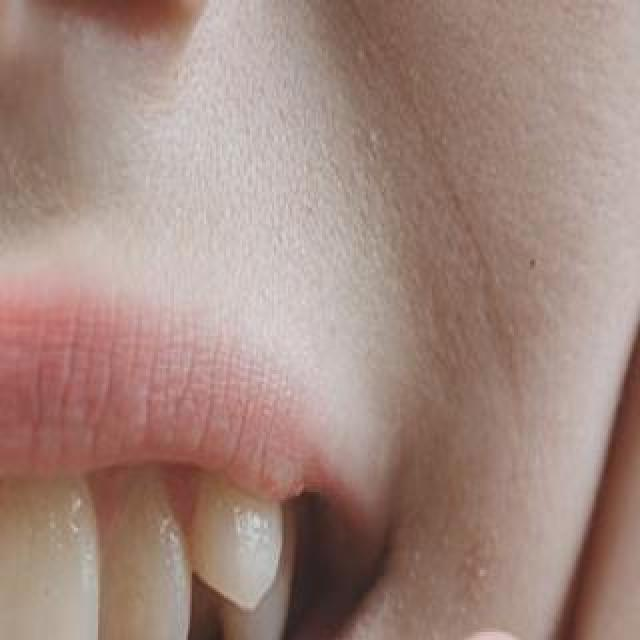maligned: (74, 450, 184, 640), (0, 432, 100, 640), (185, 438, 287, 634)
